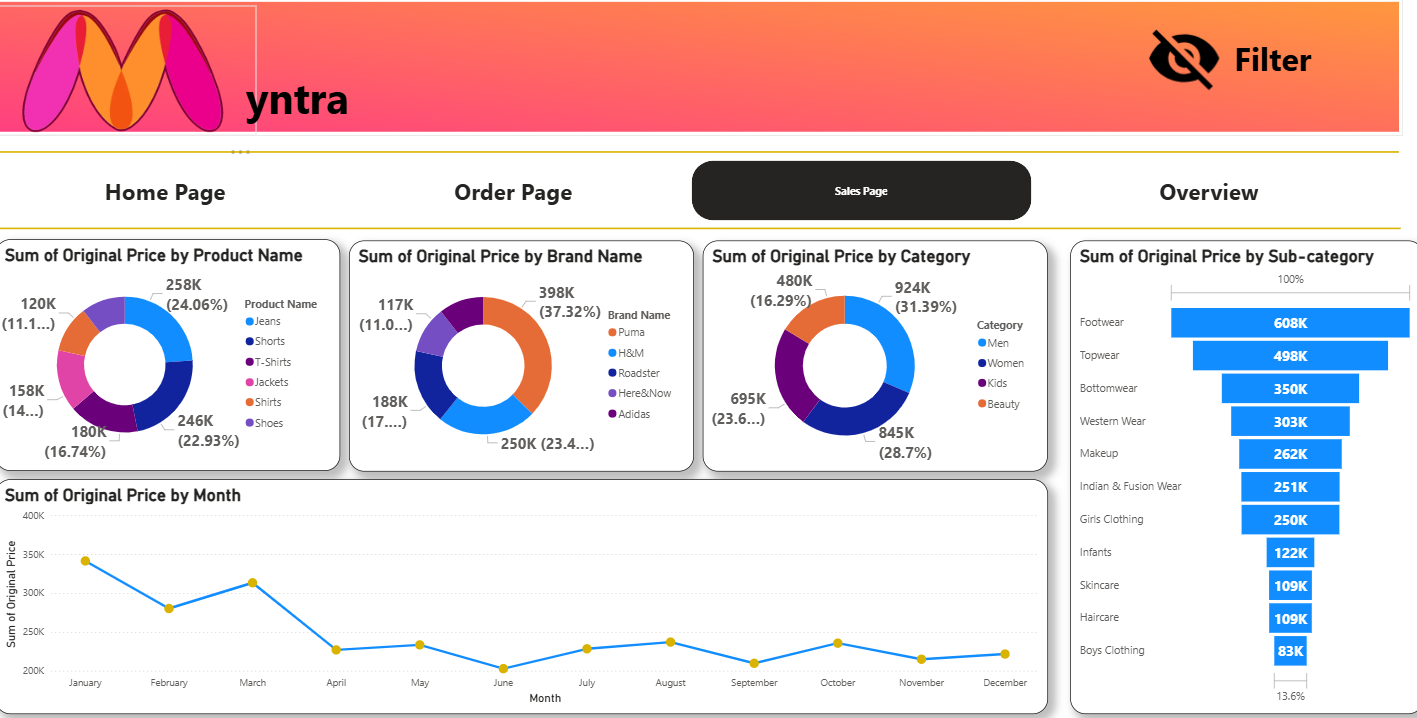

Layout of this report page (visuals, bound fields, positions):
{"tool":"powerbi","page":{"name":"Sales Page","canvas":[1800,920],"ordinal":2},"visuals":[{"type":"group","id":"g1","title":"Group 2","box":[0,12,1773.7,172.3],"z":0},{"type":"image","box":[0,12,1773.7,172.3],"z":0,"group":"g1"},{"type":"shape","box":[0,140.6,1768.9,128.7],"z":0,"group":"g2"},{"type":"actionButton","box":[1492.5,699.8,111.2,50.7],"z":0,"group":"g3"},{"type":"group","id":"g2","title":"Group 1","box":[0,140.6,1770.9,224],"z":1000},{"type":"shape","box":[1.6,235.5,1769.3,129.2],"z":1000,"group":"g2"},{"type":"group","id":"g3","title":"Group 4","box":[1228.2,81.3,376.2,669],"z":2000},{"type":"image","box":[15.2,21.1,325.6,163.1],"z":2500,"group":"g1"},{"type":"actionButton","box":[279.5,100.3,223.6,79],"z":3000,"group":"g1"},{"type":"pageNavigator","box":[14.7,215.8,1731.7,75.2],"z":3000},{"type":"donutChart","fields":{"Category":["dim_products.Product Name"],"Y":["Sum(fact_orders.Original Price)"]},"box":[14.3,314.8,430.8,289.3],"z":4000},{"type":"donutChart","fields":{"Y":["Sum(fact_orders.Original Price)"],"Category":["dim_products.Brand Name"]},"box":[455.9,315.2,431.5,288.9],"z":5000},{"type":"donutChart","fields":{"Y":["Sum(fact_orders.Original Price)"],"Category":["dim_products.Category"]},"box":[898.8,315.2,431.1,288.8],"z":6000},{"type":"funnel","fields":{"Category":["dim_products.Sub-category"],"Y":["Sum(fact_orders.Original Price)"]},"box":[1358.4,315.2,441.3,591.7],"z":7000},{"type":"lineChart","fields":{"Category":["fact_orders.Date.Variation.Date Hierarchy.Month"],"Y":["Sum(fact_orders.Original Price)"]},"box":[13.5,613.6,1316,293.3],"z":8000},{"type":"actionButton","box":[1447.8,36.6,264.4,103.7],"z":21501}]}

Visuals, with their boxes in screenshot pixels (x1, y1, x2, y2), scaled from the page's 1800x920 canvas onto the 1417x718 screenshot:
"Group 2" group: <region>0, 9, 1396, 144</region>
image: <region>0, 9, 1396, 144</region>
shape: <region>0, 110, 1393, 210</region>
actionButton: <region>1175, 546, 1262, 586</region>
"Group 1" group: <region>0, 110, 1394, 285</region>
shape: <region>1, 184, 1394, 285</region>
"Group 4" group: <region>967, 63, 1263, 586</region>
image: <region>12, 16, 268, 144</region>
actionButton: <region>220, 78, 396, 140</region>
pageNavigator: <region>12, 168, 1375, 227</region>
donutChart - dim_products.Product Name x Sum(fact_orders.Original Price): <region>11, 246, 350, 471</region>
donutChart - Sum(fact_orders.Original Price) x dim_products.Brand Name: <region>359, 246, 699, 471</region>
donutChart - Sum(fact_orders.Original Price) x dim_products.Category: <region>708, 246, 1047, 471</region>
funnel - dim_products.Sub-category x Sum(fact_orders.Original Price): <region>1069, 246, 1416, 708</region>
lineChart - fact_orders.Date.Variation.Date Hierarchy.Month x Sum(fact_orders.Original Price): <region>11, 479, 1047, 708</region>
actionButton: <region>1140, 29, 1348, 109</region>
